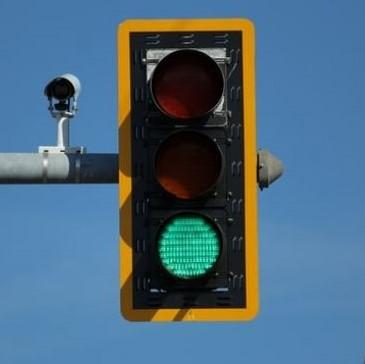green_light: (119, 17, 259, 321)
